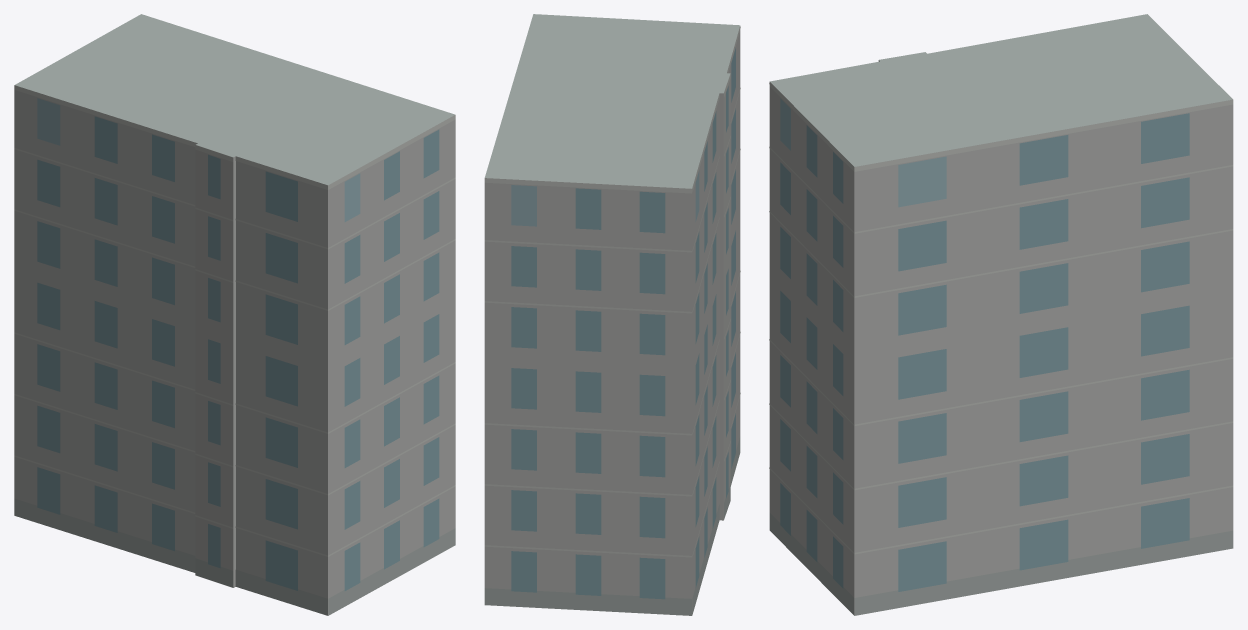
The model's file is survey-upis-33013067.glb.
3 renders of one model, left to right at view 1: azimuth 30°, elevation 25°; view 2: azimuth 150°, elevation 25°; view 3: azimuth 270°, elevation 25°, orthographic. The views are drawn at different scales.
Parts seen in each view (by area): view 1: survey-upis-33013067.tmp; view 2: survey-upis-33013067.tmp; view 3: survey-upis-33013067.tmp.
Part boxes in pixels (x1=…): survey-upis-33013067.tmp: x1=14, y1=14, x2=455, y2=615; survey-upis-33013067.tmp: x1=484, y1=14, x2=740, y2=615; survey-upis-33013067.tmp: x1=769, y1=14, x2=1233, y2=615.
Size of the model in its own units: 16.21 by 22.15 by 20.75.
